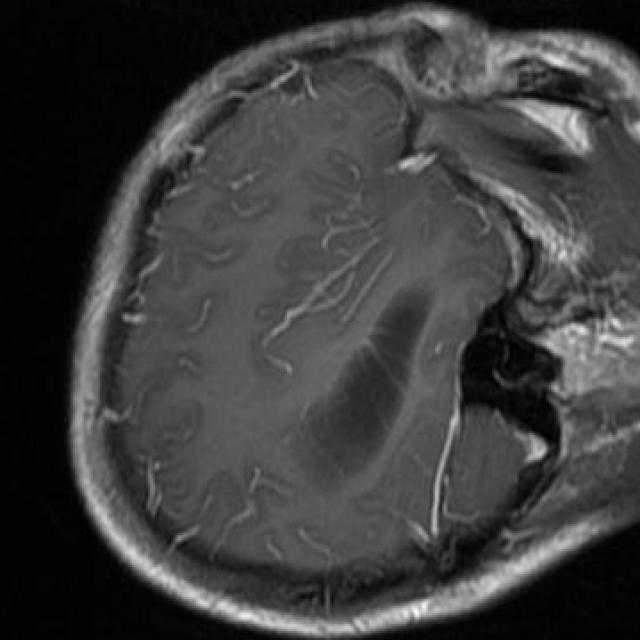glioma: (282, 282, 433, 492)
